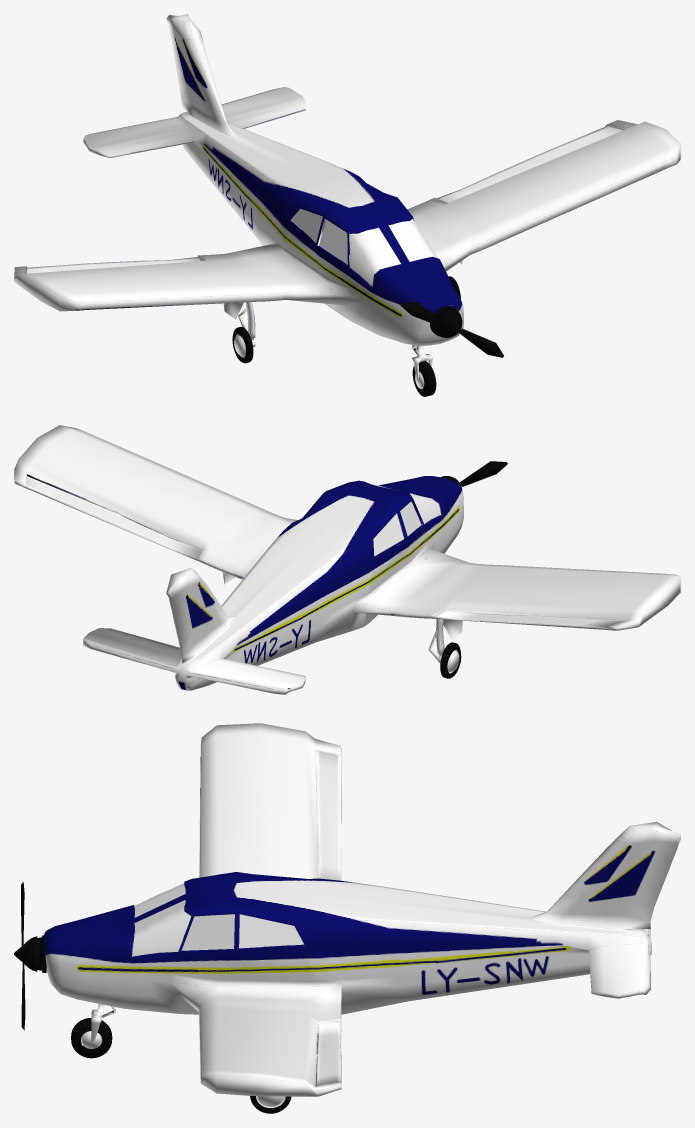
The model's file is Cherokee3.gltf.
3 views of the same model, one above another, from view 1: azimuth 30°, elevation 25°; view 2: azimuth 150°, elevation 25°; view 3: azimuth 270°, elevation 25° (orthographic). The views are drawn at different scales.
Visible parts, largest first — view 1: Cube.001, Cube.004, Cylinder.001, Cylinder, Cylinder.002; view 2: Cube.001, Cube.004, Cylinder, Cylinder.001; view 3: Cube.001, Cube.004, Cylinder.001, Cylinder.002, Cylinder.
Boxes of the visible parts, bbox=[...] form: Cube.001: bbox=[14, 14, 680, 381]; Cube.004: bbox=[291, 209, 437, 286]; Cylinder.001: bbox=[400, 302, 503, 357]; Cylinder: bbox=[232, 276, 460, 363]; Cylinder.002: bbox=[412, 361, 436, 396]; Cube.001: bbox=[14, 425, 680, 694]; Cube.004: bbox=[370, 483, 441, 556]; Cylinder: bbox=[440, 642, 461, 678]; Cylinder.001: bbox=[441, 461, 507, 487]; Cube.001: bbox=[44, 723, 680, 1096]; Cube.004: bbox=[132, 883, 303, 956]; Cylinder.001: bbox=[14, 882, 46, 1030]; Cylinder.002: bbox=[71, 1018, 112, 1058]; Cylinder: bbox=[250, 1096, 291, 1113].
Bounding box in the file's own units: 3.82 × 1.16 × 3.04.
Materials: 4 (1 with a texture image).
